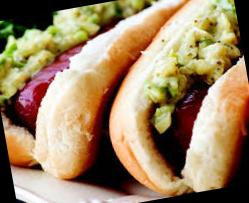Completos: (0, 0, 201, 188), (93, 0, 249, 202)
